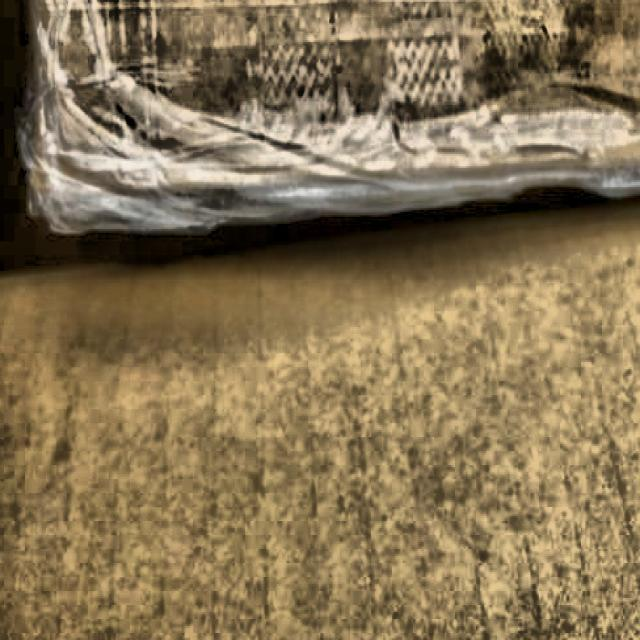cardboard: (14, 0, 640, 236)
